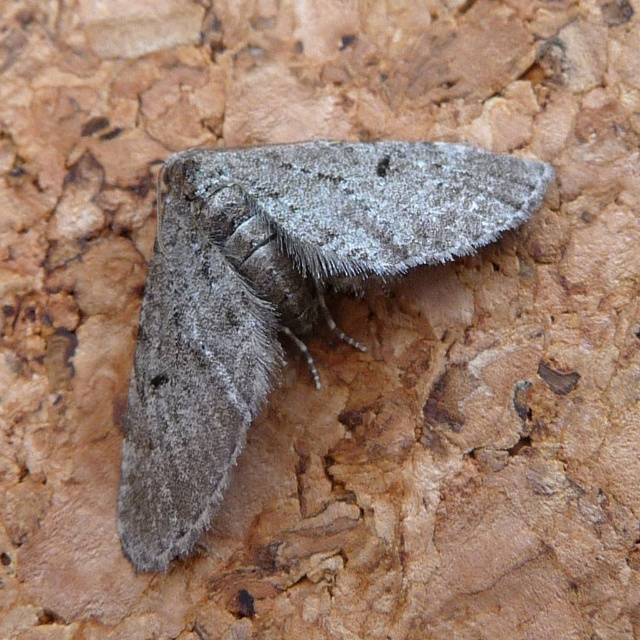Moths and butterflies: (116, 143, 556, 576)
